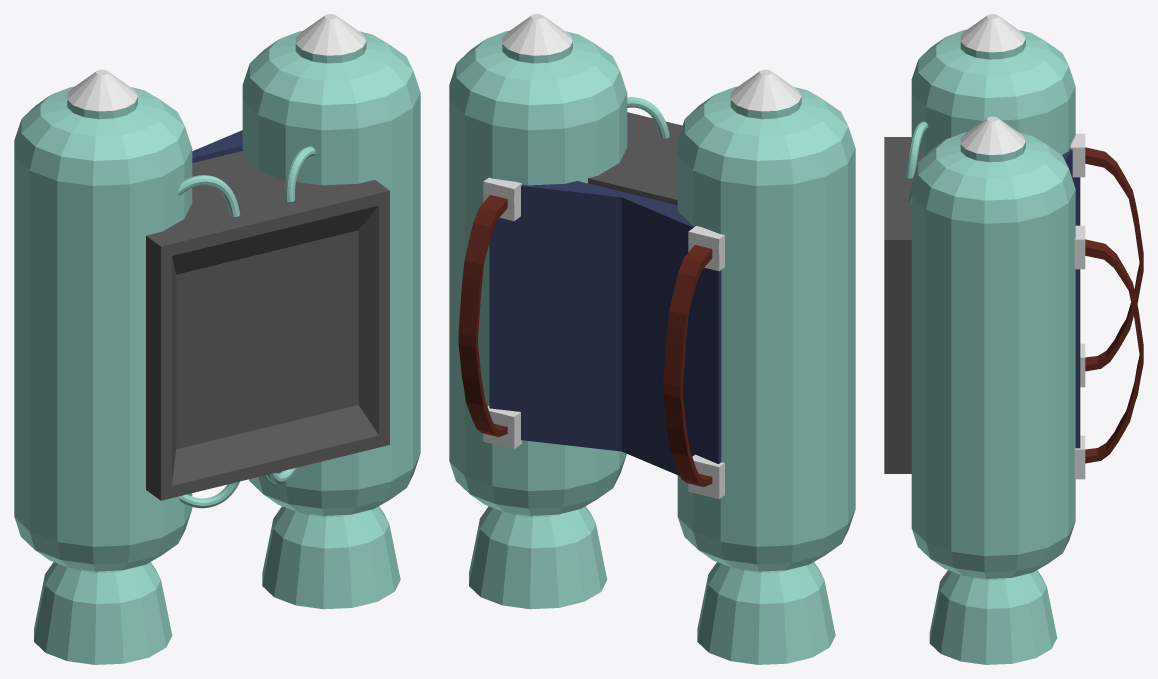
The model's file is Jetpack.fbx.
The picture shows the model from 3 angles, left to right: view 1: azimuth 30°, elevation 25°; view 2: azimuth 150°, elevation 25°; view 3: azimuth 270°, elevation 25°; orthographic projection. The views are drawn at different scales.
Visible parts, largest first — view 1: Connector, Connector.001, Cylinder.003, Cylinder.001, Cylinder.004; view 2: Connector, Connector.001, Cylinder.001; view 3: Connector, Connector.001, Cylinder.003.
Part boxes in pixels (x1,y1,x2,y2): Connector: [14, 14, 420, 664]; Connector.001: [192, 130, 242, 162]; Cylinder.003: [178, 175, 240, 216]; Cylinder.001: [285, 146, 315, 201]; Cylinder.004: [179, 481, 239, 508]; Connector: [449, 14, 855, 664]; Connector.001: [458, 177, 724, 498]; Cylinder.001: [627, 97, 669, 138]; Connector: [884, 14, 1075, 664]; Connector.001: [1062, 133, 1143, 479]; Cylinder.003: [905, 121, 928, 178].
Size of the model in its own units: 172 by 242 by 110.
